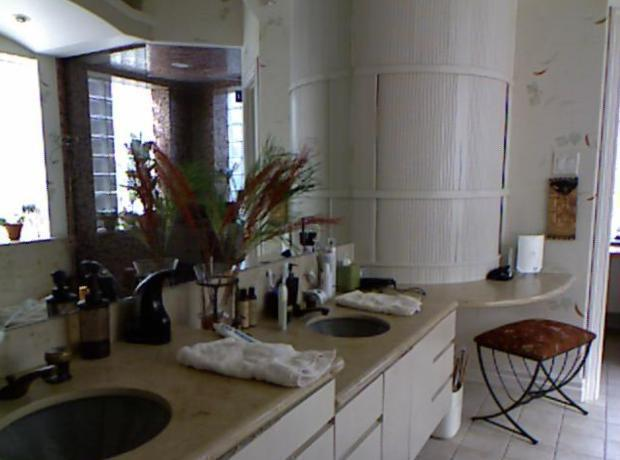Lavamanos: (3, 354, 180, 457), (283, 292, 396, 350)
